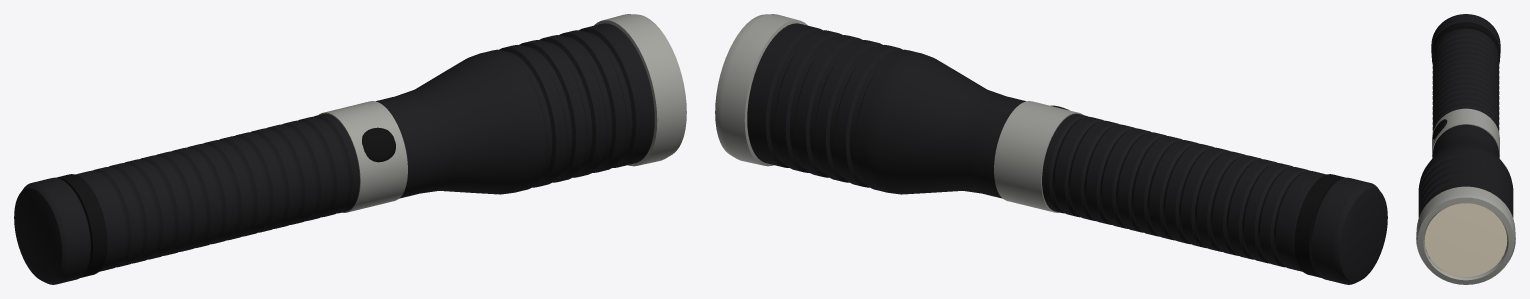
The model's file is vm_flashlight_on.glb.
3 views of the same model, side by side, from view 1: azimuth 30°, elevation 25°; view 2: azimuth 150°, elevation 25°; view 3: azimuth 270°, elevation 25° (orthographic). The views are drawn at different scales.
Visible parts, largest first — view 1: schaft, endkappe, ring, schalterring, gummiring, schalter; view 2: schaft, endkappe, schalterring, ring, gummiring; view 3: schaft, glas, ring, schalterring, endkappe, gummiring, schalter.
Boxes of the visible parts, bbox=[...] form: schaft: bbox=[75, 23, 654, 271]; endkappe: bbox=[14, 177, 90, 284]; ring: bbox=[594, 14, 686, 166]; schalterring: bbox=[319, 101, 407, 212]; gummiring: bbox=[56, 174, 107, 277]; schalter: bbox=[362, 127, 395, 162]; schaft: bbox=[747, 23, 1326, 271]; endkappe: bbox=[1311, 177, 1387, 284]; schalterring: bbox=[994, 101, 1082, 212]; ring: bbox=[715, 14, 807, 166]; gummiring: bbox=[1294, 174, 1345, 277]; schaft: bbox=[1418, 28, 1513, 257]; glas: bbox=[1424, 203, 1507, 276]; ring: bbox=[1416, 186, 1515, 284]; schalterring: bbox=[1432, 108, 1499, 157]; endkappe: bbox=[1431, 14, 1500, 52]; gummiring: bbox=[1431, 22, 1500, 64]; schalter: bbox=[1433, 119, 1447, 139].
Bounding box in the file's own units: 0.234 × 0.0496 × 0.0496.
